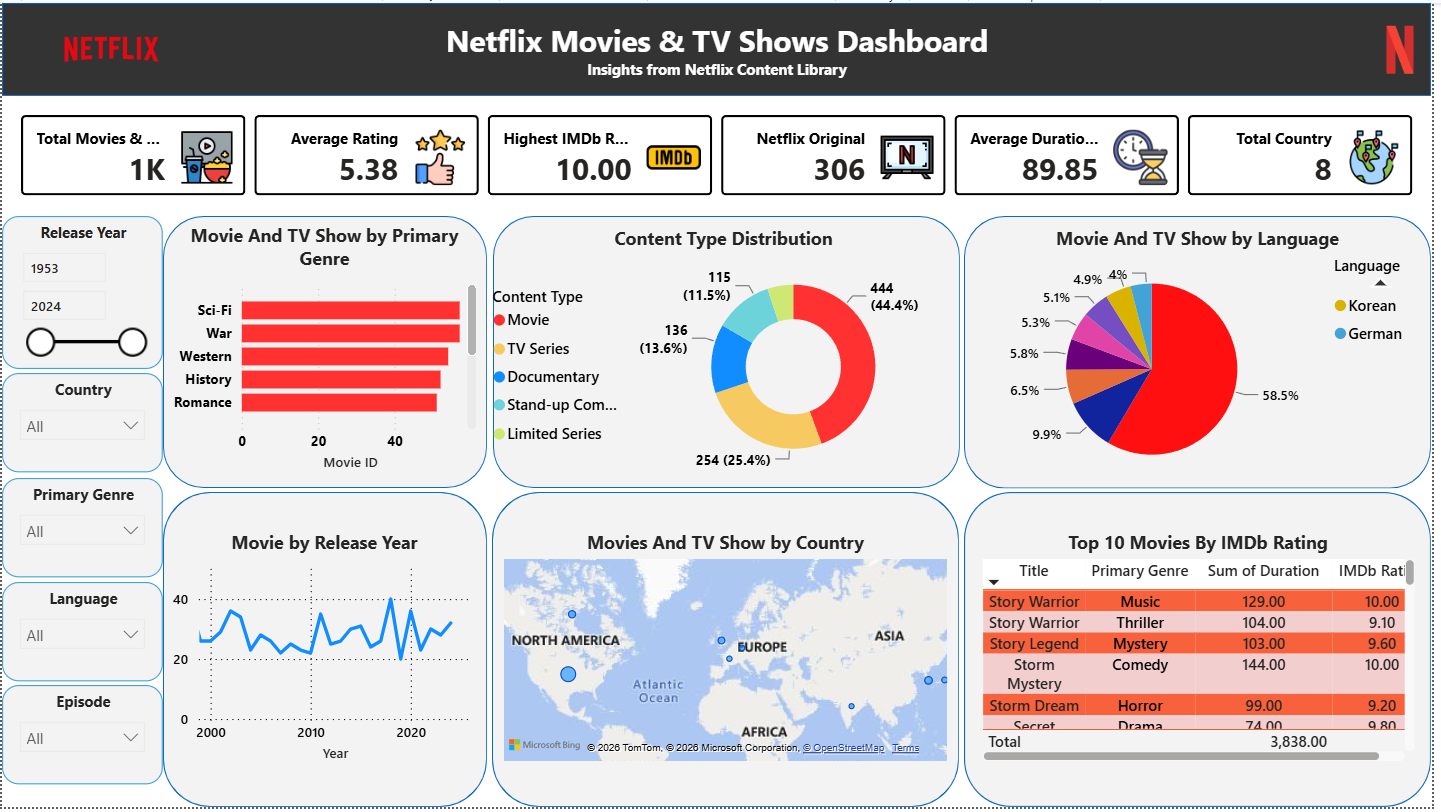

The page's visual inventory and layout, read from the dashboard file:
{"tool":"powerbi","page":{"name":"Page 1","canvas":[1280,720],"ordinal":0},"visuals":[{"type":"shape","box":[861.8,437.7,418.2,282.1],"z":0},{"type":"shape","box":[438.8,437.9,418.2,282.1],"z":1000},{"type":"shape","box":[144.2,437.9,290.1,282.1],"z":2000},{"type":"shape","box":[861.8,190.6,418.2,244.1],"z":3000},{"type":"shape","box":[439.7,190.7,418.2,243.6],"z":4000},{"type":"shape","box":[144.2,190.7,290.1,243.6],"z":5000},{"type":"shape","box":[0,0,1279.7,83.3],"z":6000},{"type":"cardVisual","title":"Total Movies & TV Shows","fields":{"Data":["movies.Total Movie ID","movies.Average Rating","movies.Highest IMDb Rating","movies.Netflix Originals","movies.Average Duration","movies.Total Countries"]},"box":[0,83.6,1280,107],"z":7000},{"type":"textbox","box":[387.8,9.9,505.1,93.1],"z":8000},{"type":"clusteredBarChart","title":"Movie And TV Show by Primary Genre","fields":{"Category":["movies.Primary Genre"],"Y":["CountNonNull(movies.Movie ID)"]},"box":[147.8,197,282.1,226.6],"z":9000},{"type":"donutChart","title":"Content Type Distribution","fields":{"Category":["movies.Content Type"],"Y":["CountNonNull(movies.Movie ID)"]},"box":[434.3,199.7,423.6,231],"z":10000},{"type":"lineChart","title":"Movie by Release Year","fields":{"Category":["movies.Release Year"],"Y":["movies.Total Movie ID"]},"box":[147.8,471.9,282.1,212.2],"z":11000},{"type":"pieChart","title":"Movie And TV Show by Language","fields":{"Category":["movies.Language"],"Y":["CountNonNull(movies.Movie ID)"]},"box":[861.8,199.4,418.2,235.4],"z":12000},{"type":"map","title":"Movies And TV Show by Country","fields":{"Category":["movies.Country"],"Size":["CountNonNull(movies.Movie ID)"]},"box":[444.2,471.9,407.5,212.2],"z":13000},{"type":"tableEx","title":"Top 10 Movies By IMDb Rating","fields":{"Values":["movies.Title","movies.Primary Genre","Sum(movies.Duration)","movies.IMDb Rating"]},"box":[872.2,471.9,397.6,212.2],"z":14000},{"type":"image","box":[0,0,196.1,83.3],"z":15000},{"type":"image","box":[1230.4,5.4,43,72.5],"z":16000},{"type":"slicer","title":"Release Year","fields":{"Values":["movies.Release Year"]},"box":[0,190.6,144,137.1],"z":16001},{"type":"slicer","title":"Country","fields":{"Values":["movies.Country"]},"box":[0,331.7,144,89.5],"z":16002},{"type":"slicer","title":"Primary Genre","fields":{"Values":["movies.Primary Genre"]},"box":[0,425,144,89.5],"z":16003},{"type":"slicer","title":"Language","fields":{"Values":["movies.Language"]},"box":[0,518.4,144,89.5],"z":16004},{"type":"slicer","title":"Episode","fields":{"Values":["movies.Episodes"]},"box":[0,610.8,144,89.5],"z":16005}]}

Visuals, with their boxes in screenshot pixels (x1, y1, x2, y2), scaled from the page's 1280x720 canvas onto the 1441x812 screenshot:
shape: region(970, 494, 1440, 811)
shape: region(494, 494, 965, 811)
shape: region(162, 494, 489, 811)
shape: region(970, 215, 1440, 490)
shape: region(495, 215, 966, 490)
shape: region(162, 215, 489, 490)
shape: region(0, 0, 1440, 94)
"Total Movies & TV Shows" cardVisual: region(0, 94, 1440, 215)
textbox: region(437, 11, 1005, 116)
"Movie And TV Show by Primary Genre" clusteredBarChart: region(166, 222, 484, 478)
"Content Type Distribution" donutChart: region(489, 225, 966, 486)
"Movie by Release Year" lineChart: region(166, 532, 484, 772)
"Movie And TV Show by Language" pieChart: region(970, 225, 1440, 490)
"Movies And TV Show by Country" map: region(500, 532, 959, 772)
"Top 10 Movies By IMDb Rating" tableEx: region(982, 532, 1430, 772)
image: region(0, 0, 221, 94)
image: region(1385, 6, 1434, 88)
"Release Year" slicer: region(0, 215, 162, 370)
"Country" slicer: region(0, 374, 162, 475)
"Primary Genre" slicer: region(0, 479, 162, 580)
"Language" slicer: region(0, 585, 162, 686)
"Episode" slicer: region(0, 689, 162, 790)
